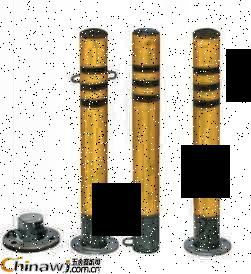bench: (73, 26, 116, 248), (185, 27, 226, 251), (126, 25, 163, 253)
